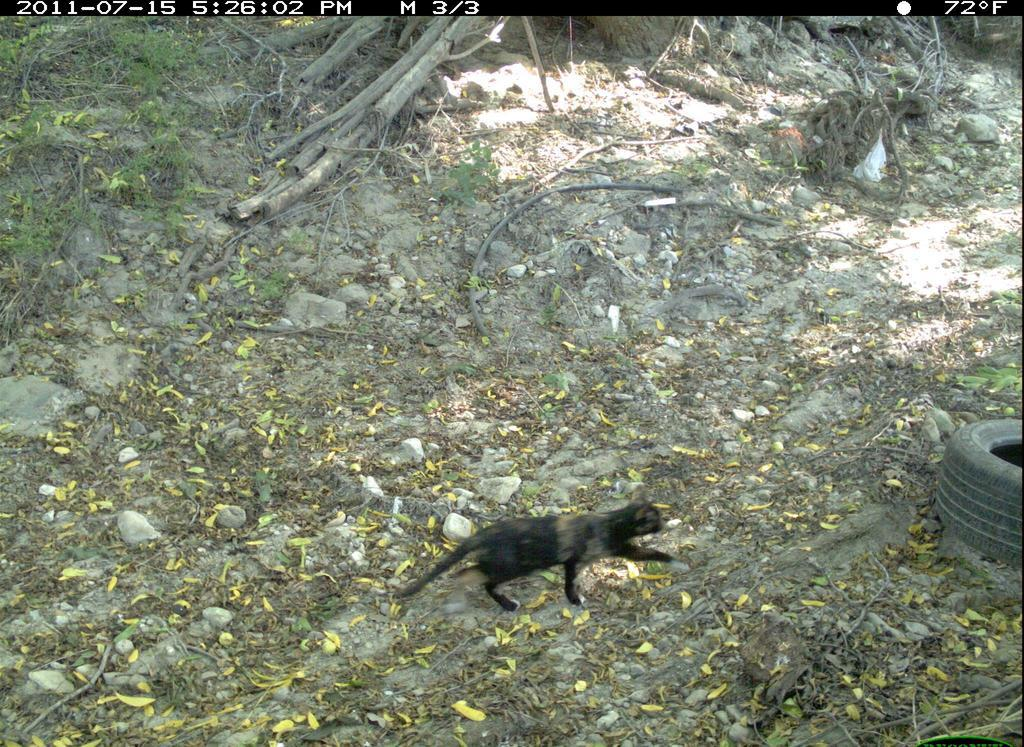cat: (405, 496, 690, 624)
